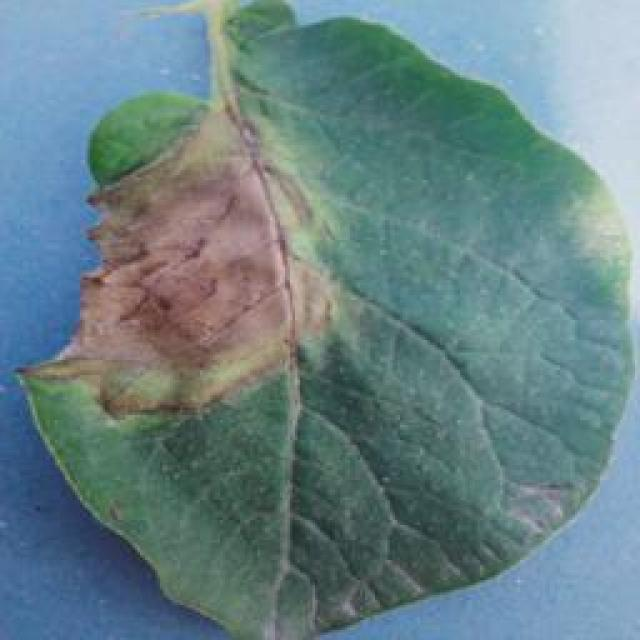Potato_Late_Blight: (29, 39, 624, 636)
